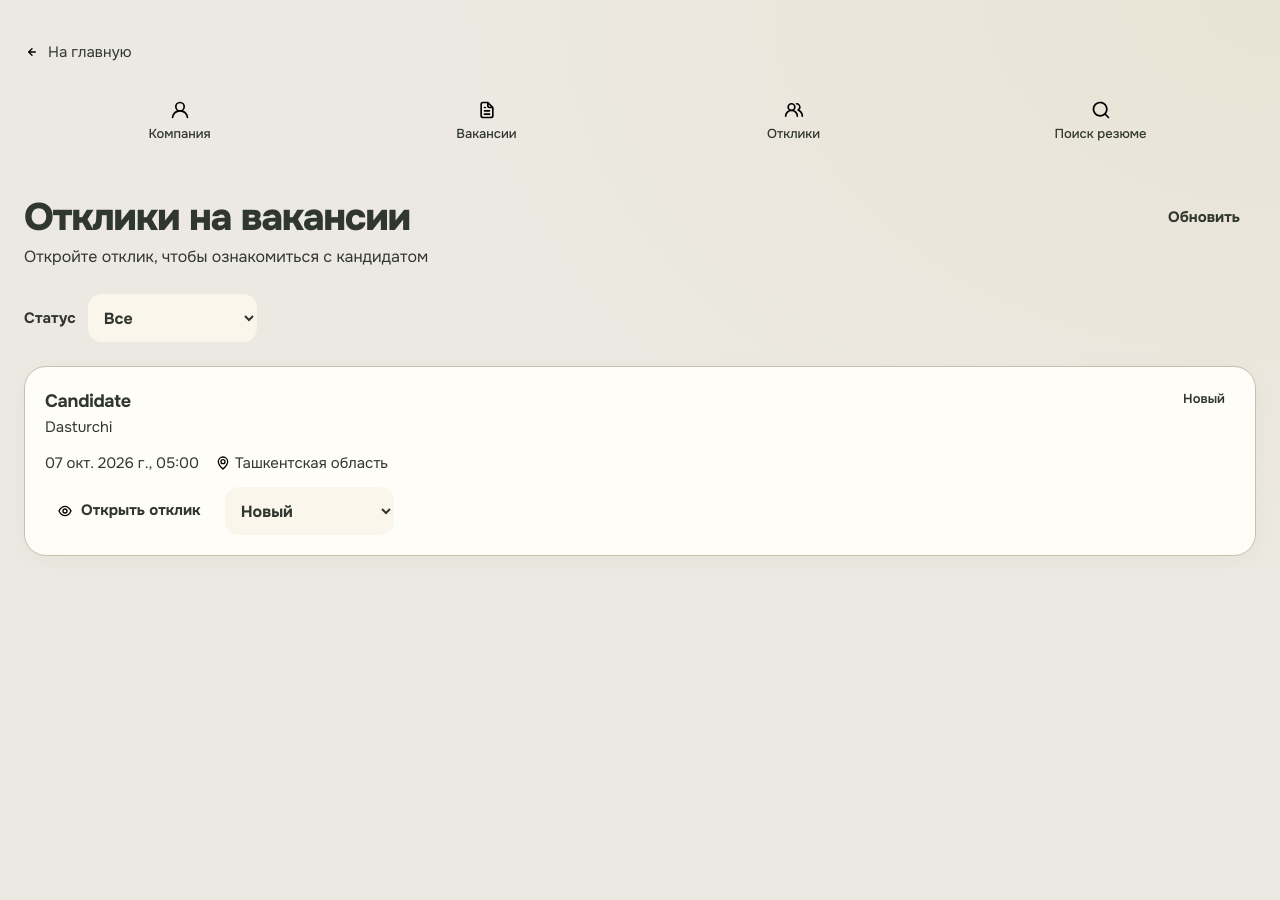
Test: switching accounts unmounts a private applicant dialog before the new list loads
Click the button "Открыть отклик" at (129, 511), box left=45, top=489, right=213, bottom=533
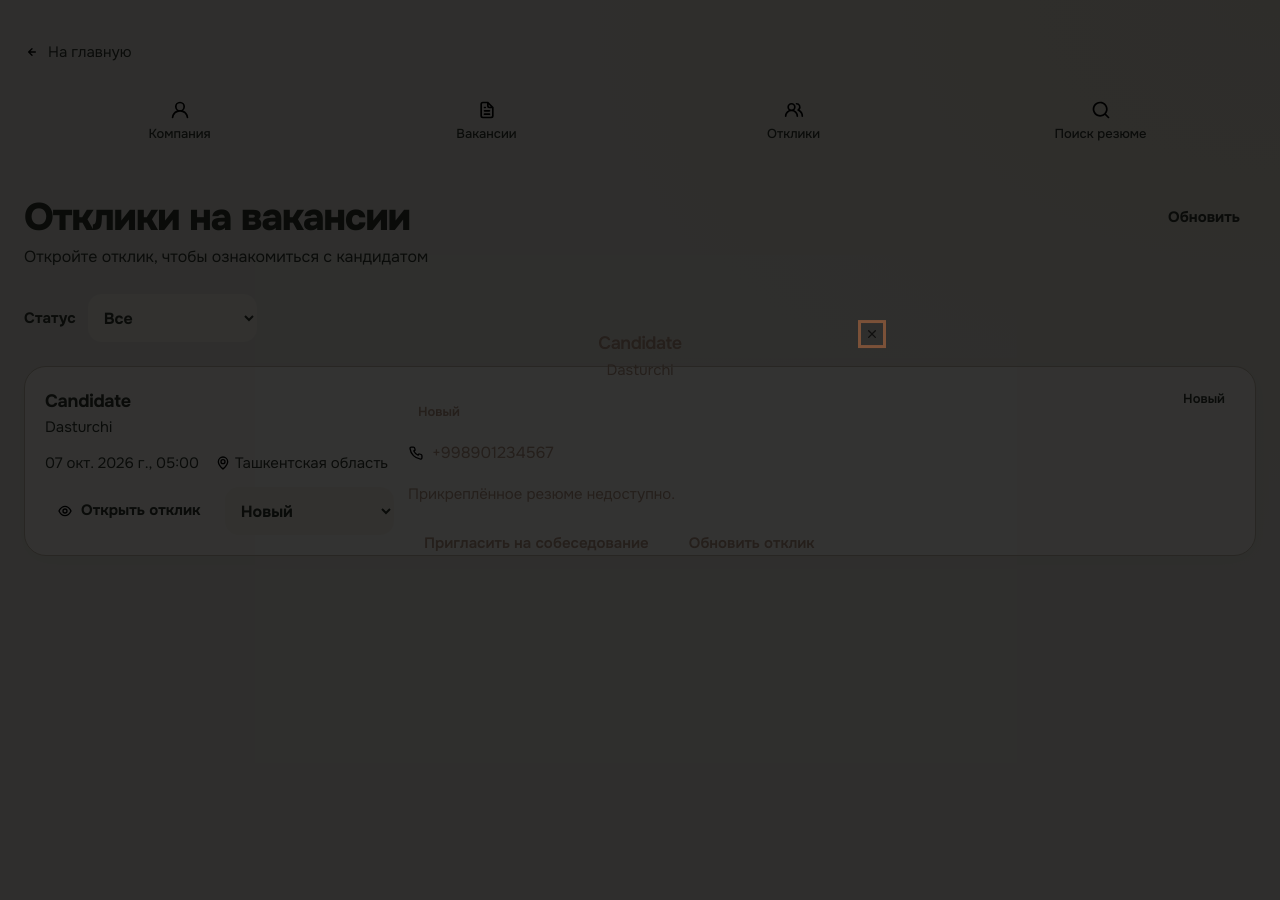
Expected: the dialog is shown, left=384, top=310, right=896, bottom=590
